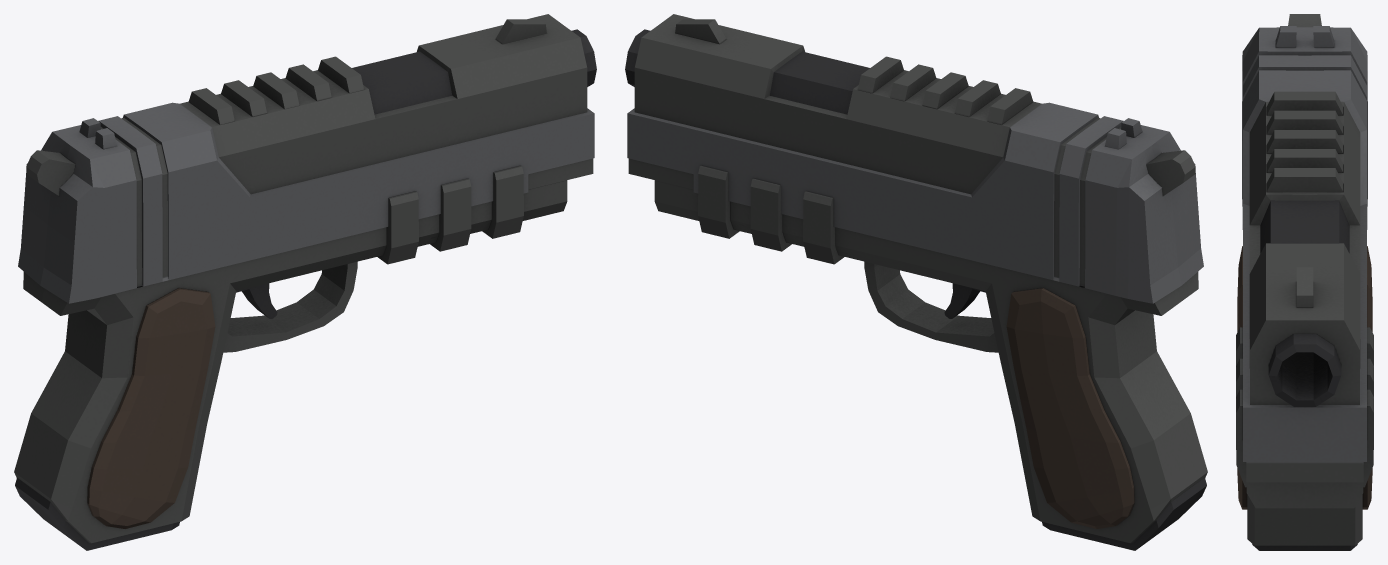
Rendered from Pistol_3.glb.
3 renders of one model, left to right at view 1: azimuth 30°, elevation 25°; view 2: azimuth 150°, elevation 25°; view 3: azimuth 270°, elevation 25°, orthographic. The views are drawn at different scales.
Parts seen in each view (by area): view 1: Pistol_3; view 2: Pistol_3; view 3: Pistol_3.
Boxes of the visible parts, box(x1,y1,x2,y2) form: Pistol_3: box(14, 14, 596, 550); Pistol_3: box(625, 14, 1207, 550); Pistol_3: box(1236, 14, 1373, 550).
Size of the model in its own units: 0.4019 by 0.2817 by 0.0716.
1 material, 1 textured.
